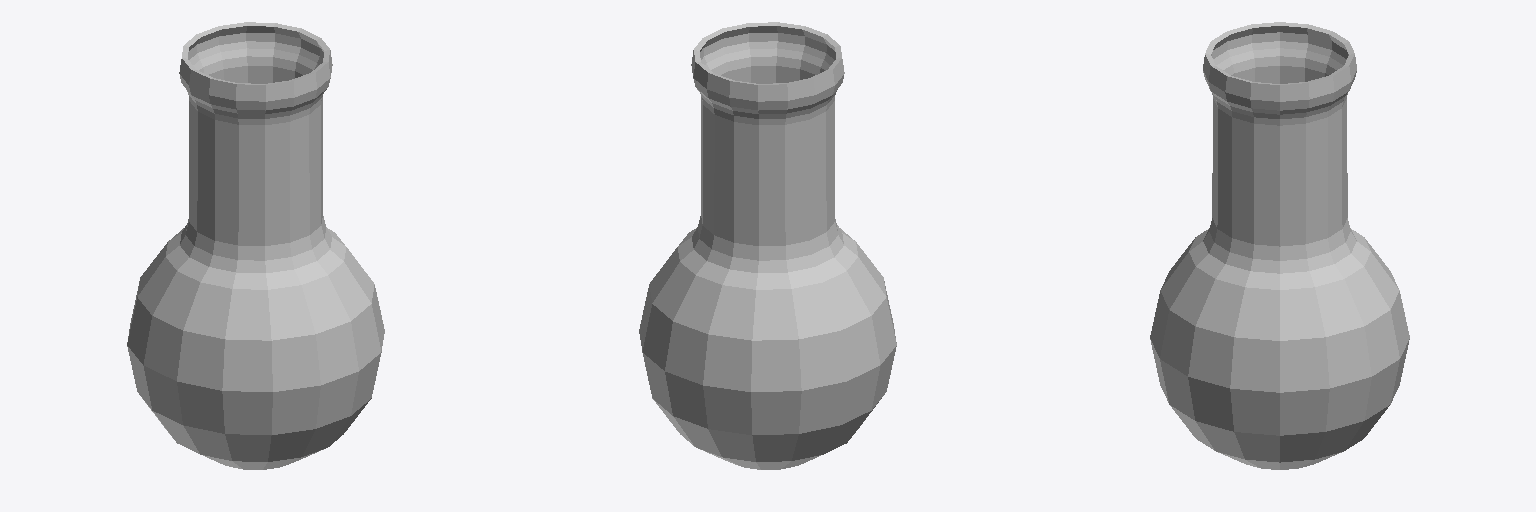
Rendered from flask.obj.
The picture shows the model from 3 angles: view 1: azimuth 30°, elevation 25°; view 2: azimuth 150°, elevation 25°; view 3: azimuth 270°, elevation 25°; orthographic projection.
Parts seen in each view (by area): view 1: Flask_Cylinder.008; view 2: Flask_Cylinder.008; view 3: Flask_Cylinder.008.
Boxes of the visible parts, x1=… form: Flask_Cylinder.008: x1=127, y1=22, x2=384, y2=469; Flask_Cylinder.008: x1=639, y1=22, x2=896, y2=469; Flask_Cylinder.008: x1=1150, y1=22, x2=1409, y2=469.
Bounding box in the file's own units: 1.39 × 2.39 × 1.39.